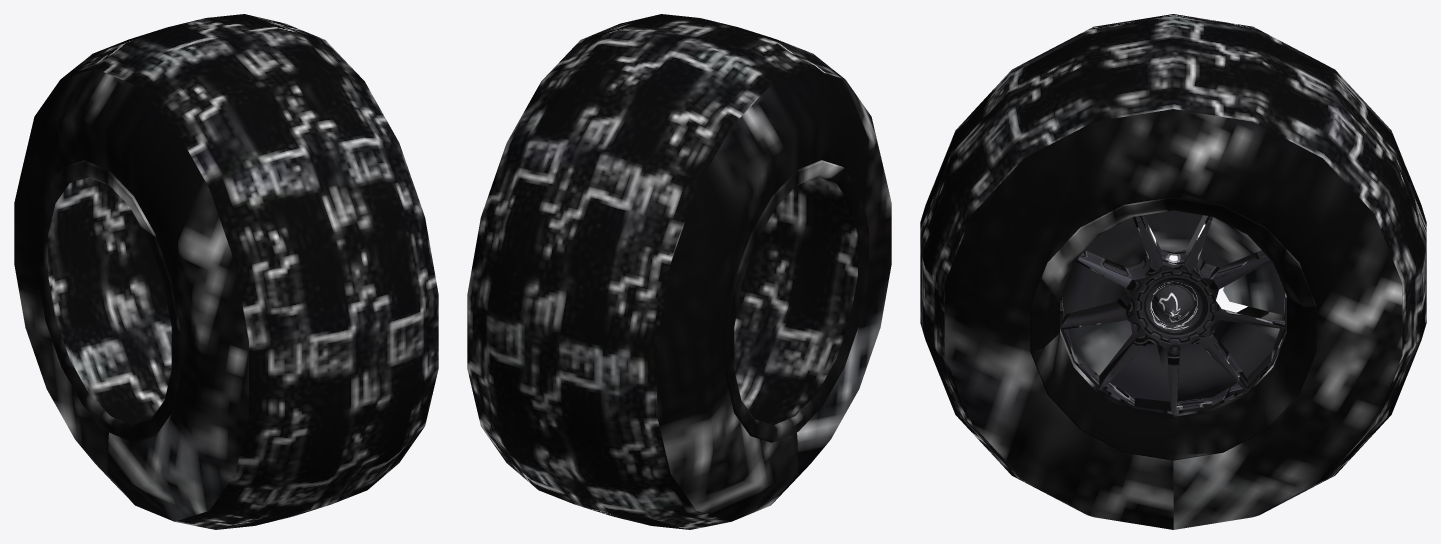
File: coche_rueda_derecha_1.dae
The picture shows the model from 3 angles, left to right: view 1: azimuth 30°, elevation 25°; view 2: azimuth 150°, elevation 25°; view 3: azimuth 270°, elevation 25°; orthographic projection.
Visible parts, largest first — view 1: Caucho; view 2: Caucho; view 3: Caucho, Rines.
Boxes of the visible parts, bbox=[...] form: Caucho: bbox=[14, 14, 438, 529]; Caucho: bbox=[467, 14, 891, 529]; Caucho: bbox=[920, 14, 1426, 529]; Rines: bbox=[1060, 210, 1286, 414].
Bounding box in the file's own units: 0.1854 × 0.3387 × 0.344.
3 materials, 3 textured.
